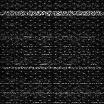lte: (1, 10, 104, 16), (1, 65, 104, 70), (1, 82, 104, 84)
